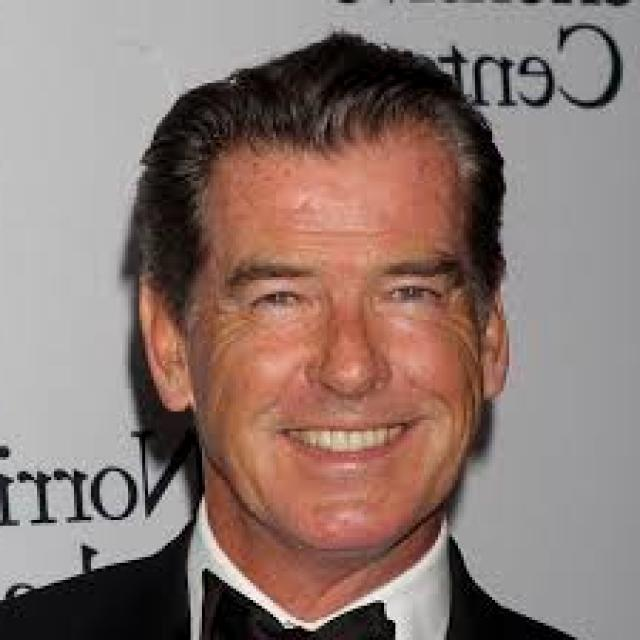normal_face: (138, 54, 519, 571)
